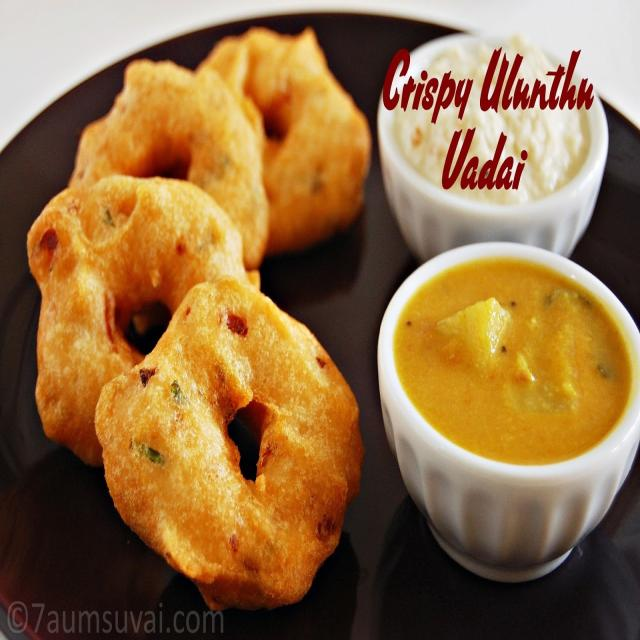medu vadai: (96, 278, 363, 608), (28, 176, 258, 466), (70, 60, 268, 269), (199, 28, 371, 255)
sambar: (394, 259, 633, 464)
